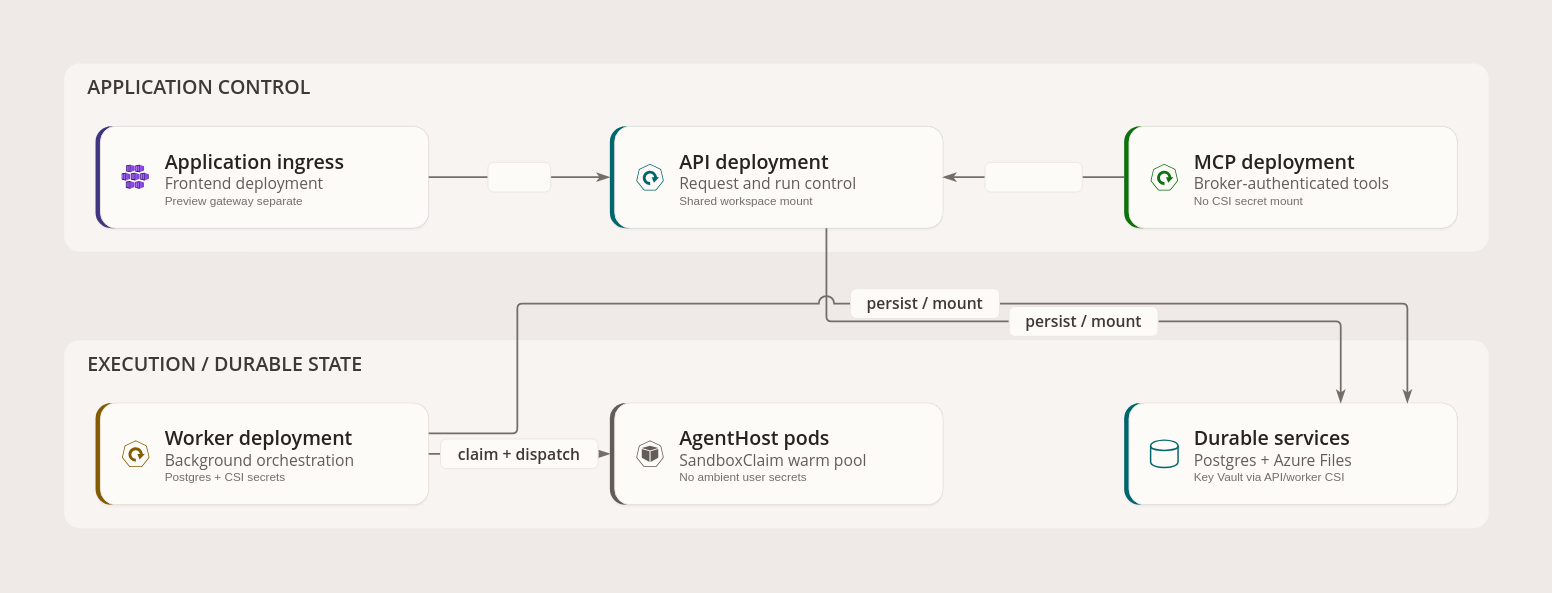
This 1552x593 diagram has some shape labels left out. Each missing label, with the box of its shape:
API tools: (984, 161, 1082, 192)
HTTPS: (487, 161, 551, 192)
